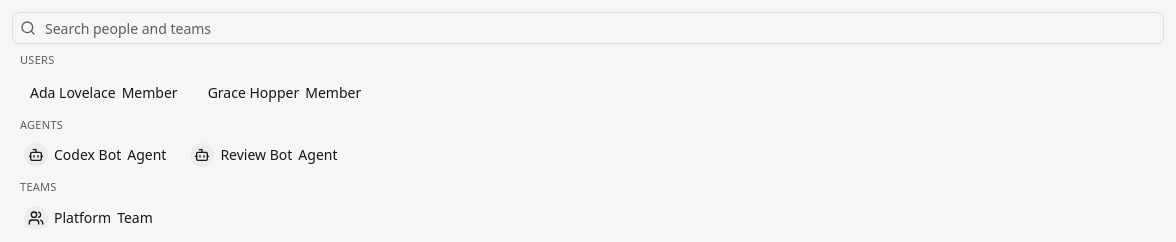
Test case: PrincipalPickerList (#107) › KFL-160 grouping › searches across every group and drops groups that no longer match
Type "bot" into the field labelled "Search people and teams". click: coordinates (588, 28)
box: [12,12,1164,44]
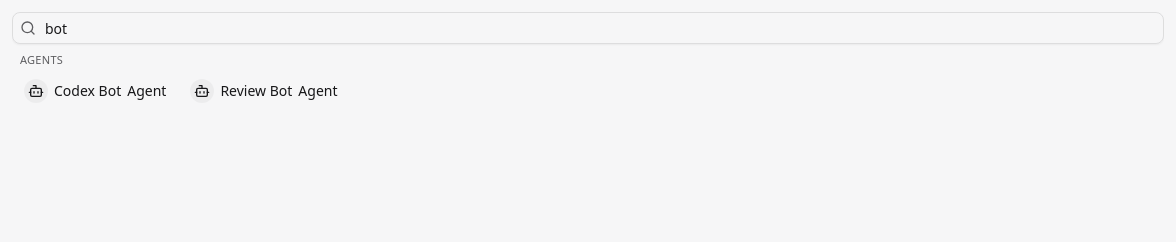
Now the button with test id "principal-option-user-user-a" is gone
Now the text with test id "principal-group-heading-user" is gone
Now the text with test id "principal-group-heading-team" is gone
